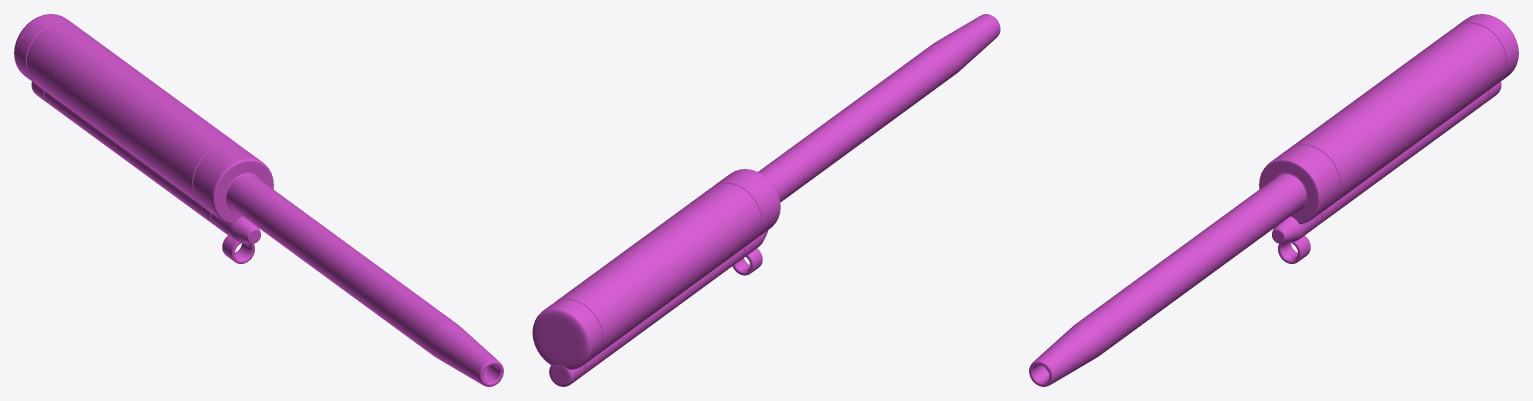
The model's file is part_barrel_01.fbx.
3 views of the same model, side by side, from view 1: azimuth 30°, elevation 25°; view 2: azimuth 150°, elevation 25°; view 3: azimuth 330°, elevation 25° (orthographic). The views are drawn at different scales.
Visible parts, largest first — view 1: part_barrel_01; view 2: part_barrel_01; view 3: part_barrel_01.
Part boxes in pixels (x1,y1,x2,y2): part_barrel_01: (14,14,503,386); part_barrel_01: (532,14,1000,386); part_barrel_01: (1029,14,1518,386).
Bounding box in the file's own units: 5.66 × 9.12 × 71.58.
